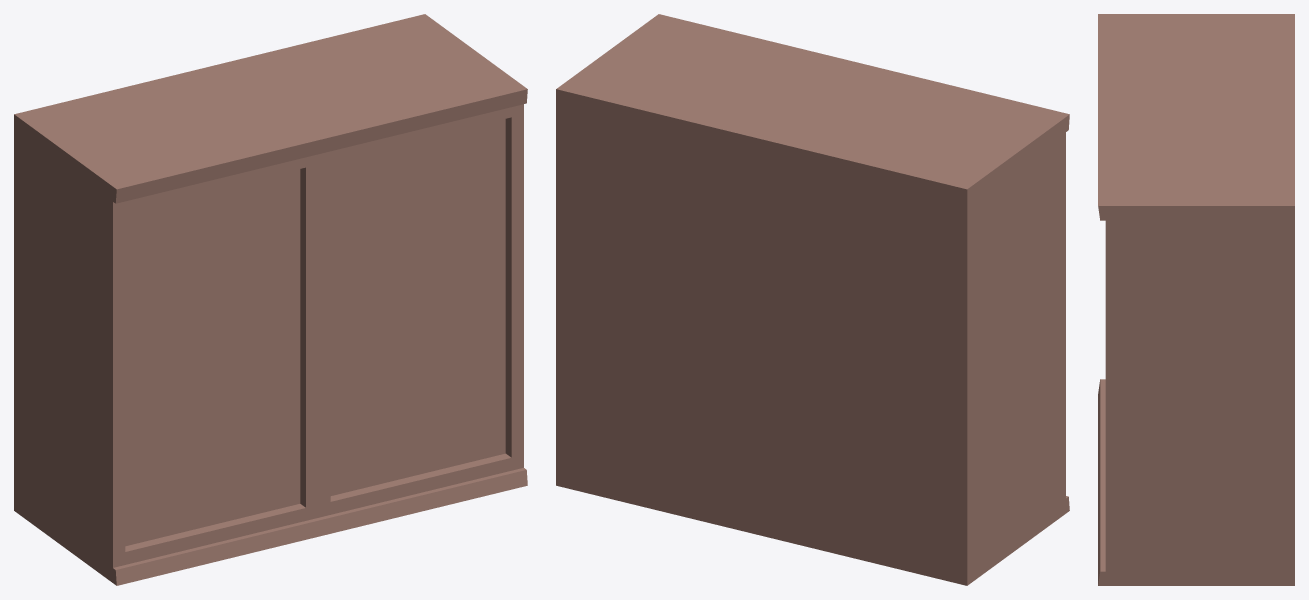
File: CUPBOARD_1.fbx
3 views of the same model, side by side, from view 1: azimuth 30°, elevation 25°; view 2: azimuth 150°, elevation 25°; view 3: azimuth 270°, elevation 25° (orthographic). The views are drawn at different scales.
Parts seen in each view (by area): view 1: Plane.003; view 2: Plane.003; view 3: Plane.003.
Boxes of the visible parts, x1,y1,x2,y2 form: Plane.003: (14,14,527,585); Plane.003: (556,14,1069,585); Plane.003: (1098,14,1294,585).
Size of the model in its own units: 4.54 by 4.18 by 1.96.
